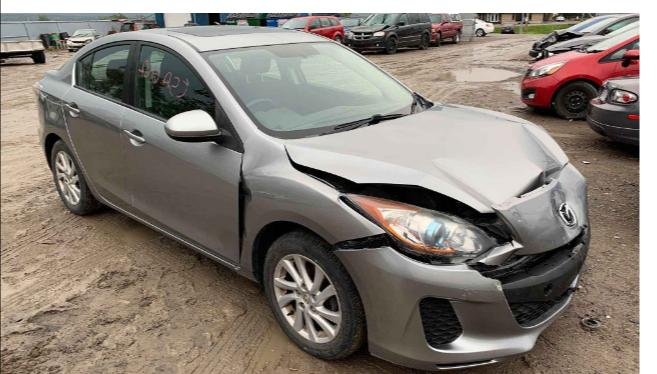Broken part: (329, 160, 591, 371), (282, 102, 570, 231), (235, 129, 387, 273)
Dent: (430, 156, 504, 207), (517, 125, 564, 176), (549, 187, 582, 243), (252, 146, 286, 177), (533, 217, 552, 238), (241, 178, 252, 211), (512, 208, 524, 226), (240, 227, 247, 248)
Missing part: (542, 283, 552, 297)
Scratch: (251, 188, 325, 210), (459, 287, 476, 301), (491, 281, 503, 292)
